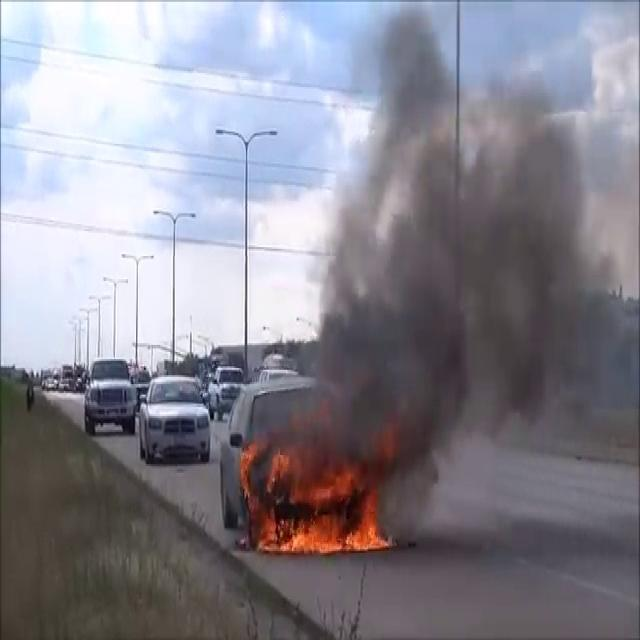Fire: (239, 442, 388, 559)
Smoke: (295, 2, 635, 514)
